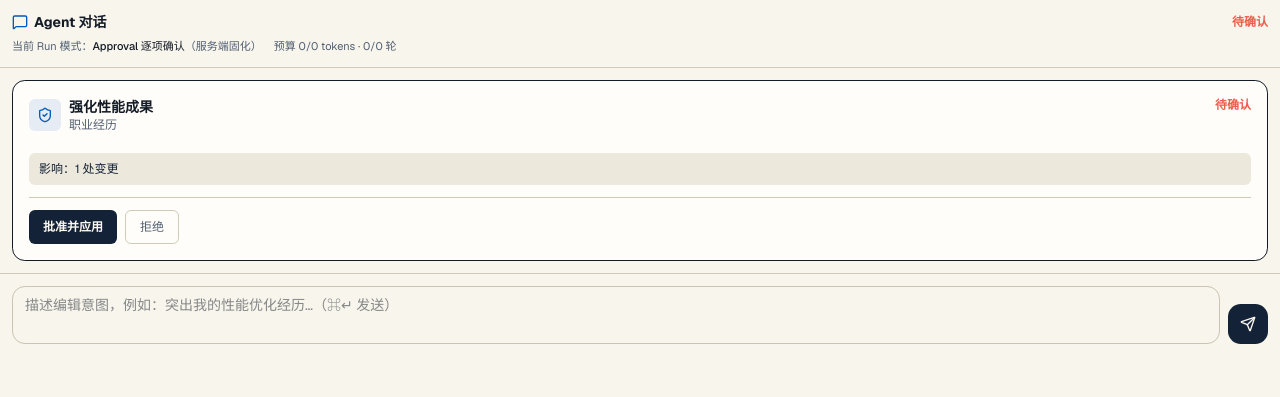
it: RunPanel 审批接线 › approve 失败时就地报错
Click the button "批准并应用". click: [73, 226]
box: top-left (29, 210), bottom-right (117, 244)
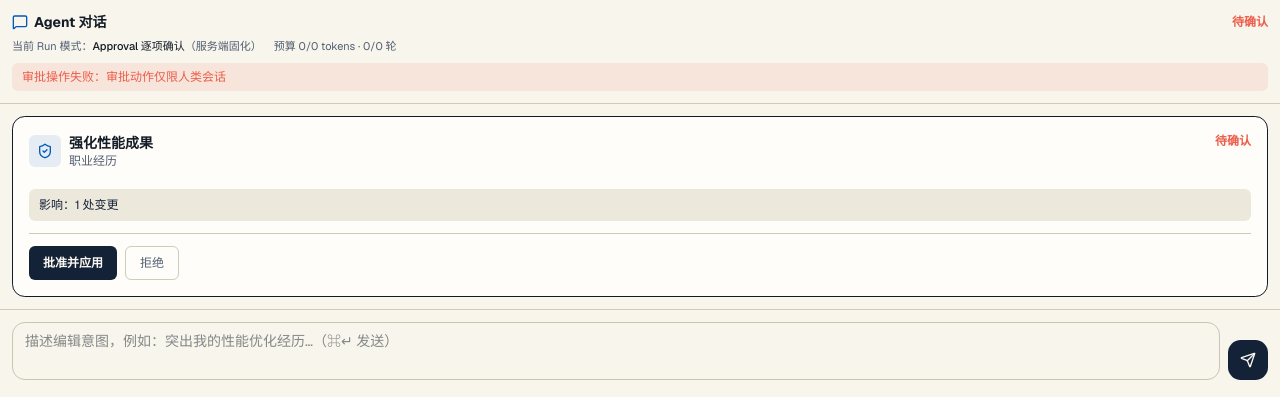
Check: the message shows "审批动作仅限人类会话", box top-left (22, 68), bottom-right (226, 84)
